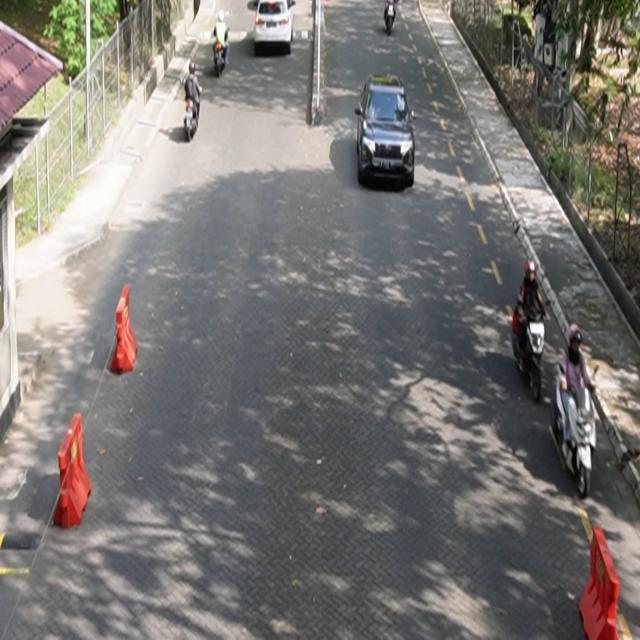car: (355, 74, 416, 189), (254, 1, 297, 56)
